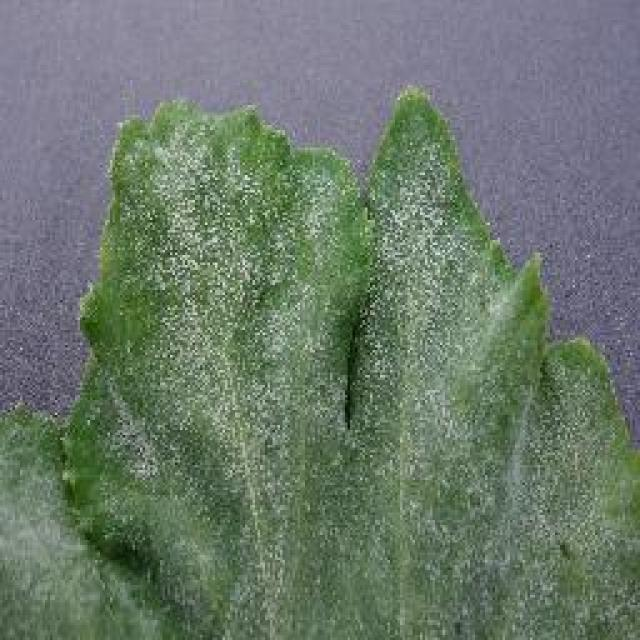Squ_Powdery_mildew: (115, 147, 484, 575)
